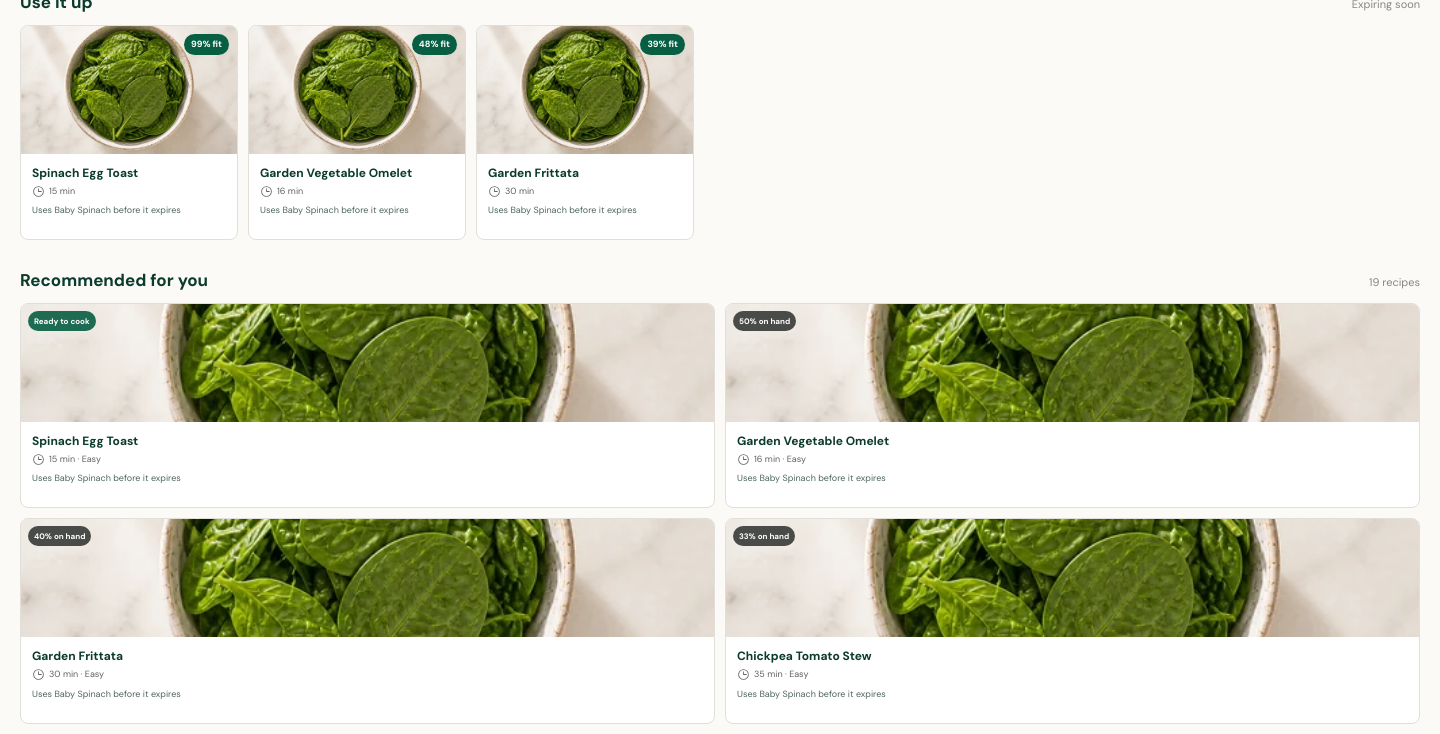
Recipes page › opens Cook Mode from a recipe card
(page scrolled)
Click the button "Spinach Egg Toast": (368, 405) [20, 302, 715, 508]
(page scrolled)
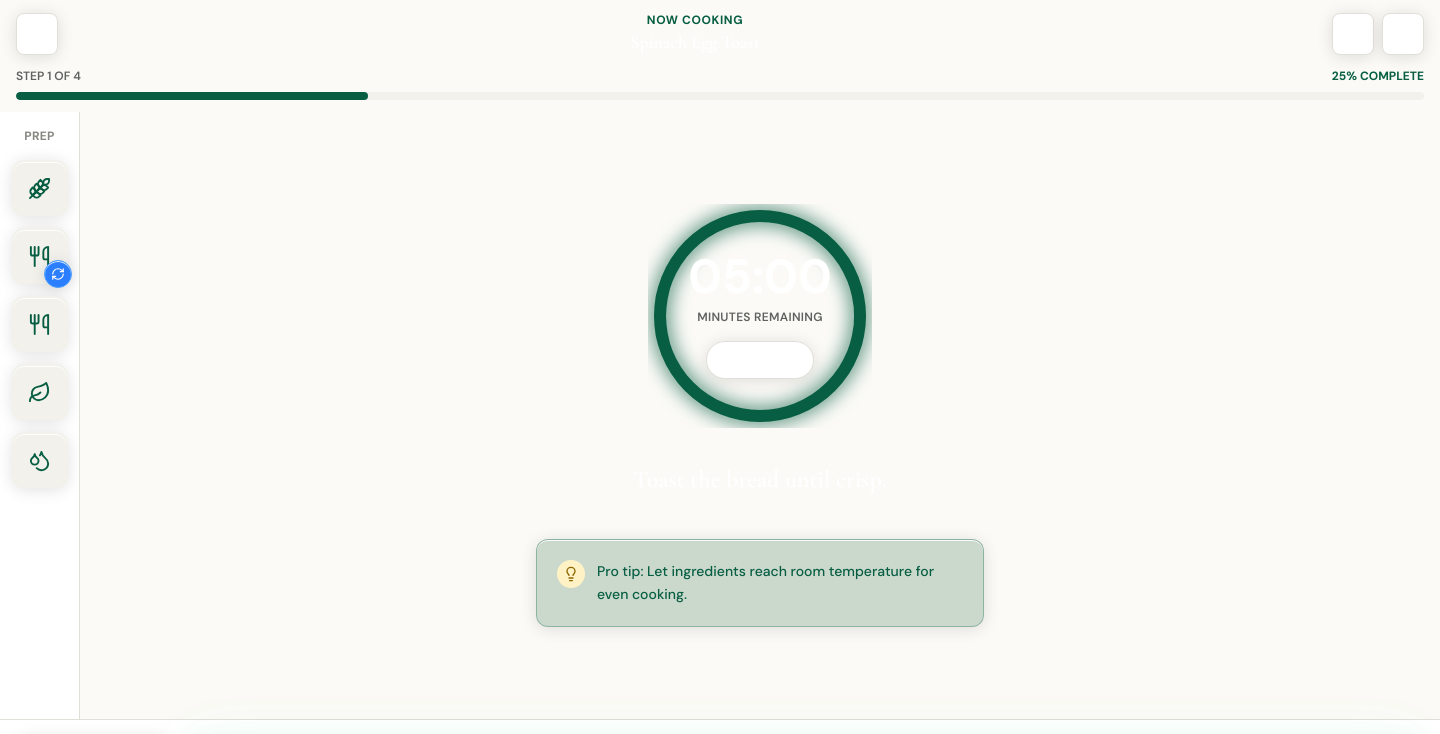
Expected: the text "NOW COOKING" is shown, [647, 12, 743, 28]
Expected: the button named "exit cook mode" is shown, [16, 13, 58, 55]
Expected: the text "recipes" is gone
